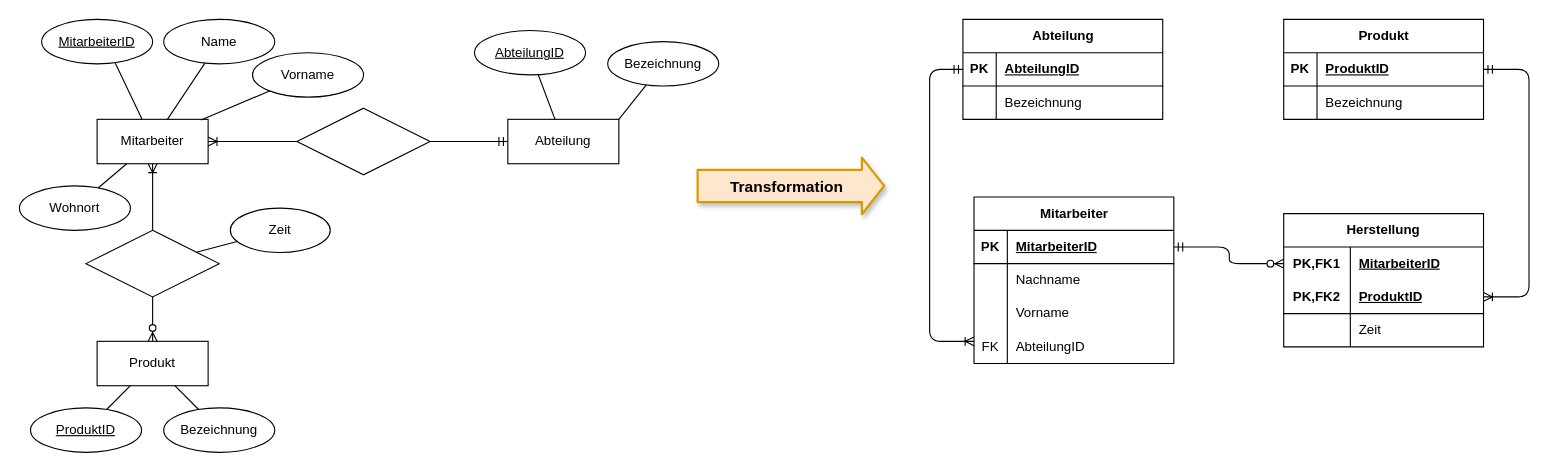
Some shapes in this 1558 by 472 pixel diagram are drawn without their labels. The shapes that lost their labels are listed below. From the top down, each one's centre as x and y in pixels, then its label:
At [363,141]: "arbeitet".
At [152,263]: "herstellt".
